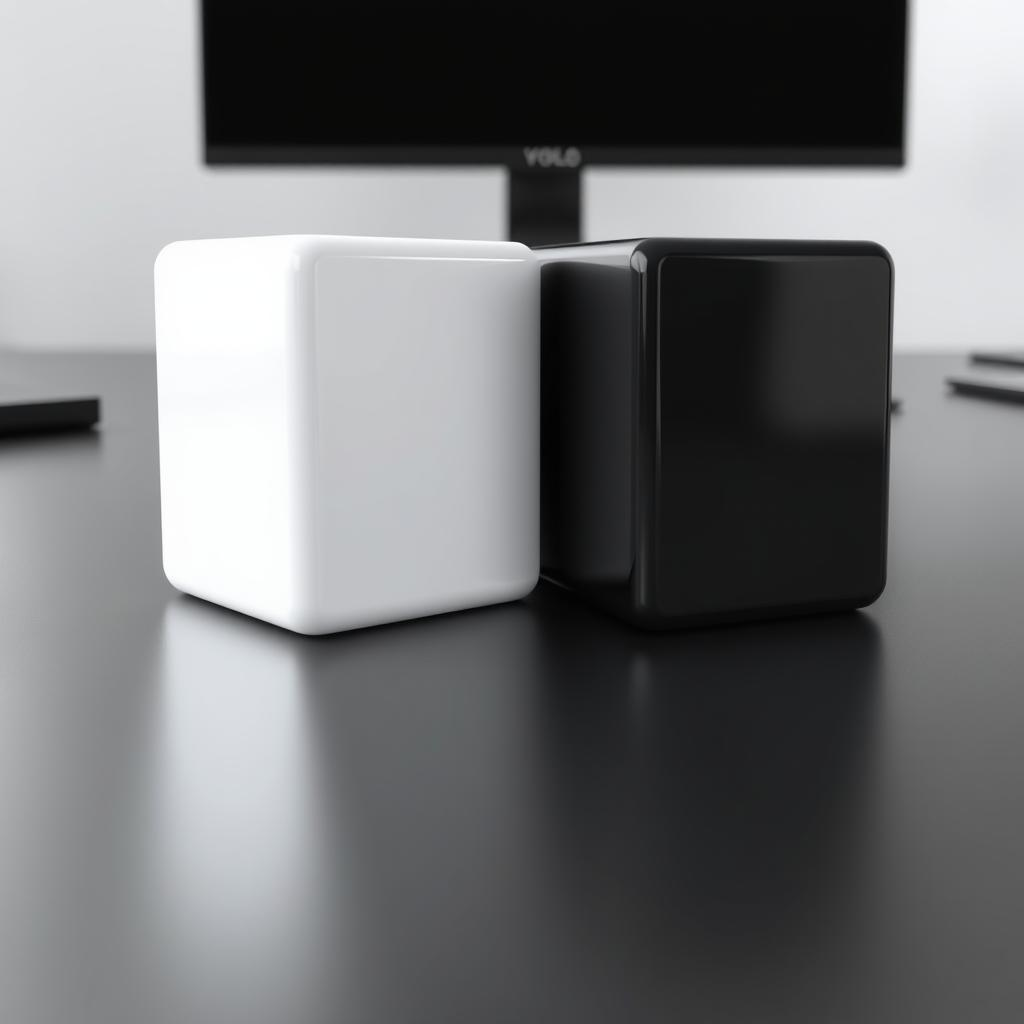cube: (152, 232, 542, 637), (534, 236, 893, 632)
